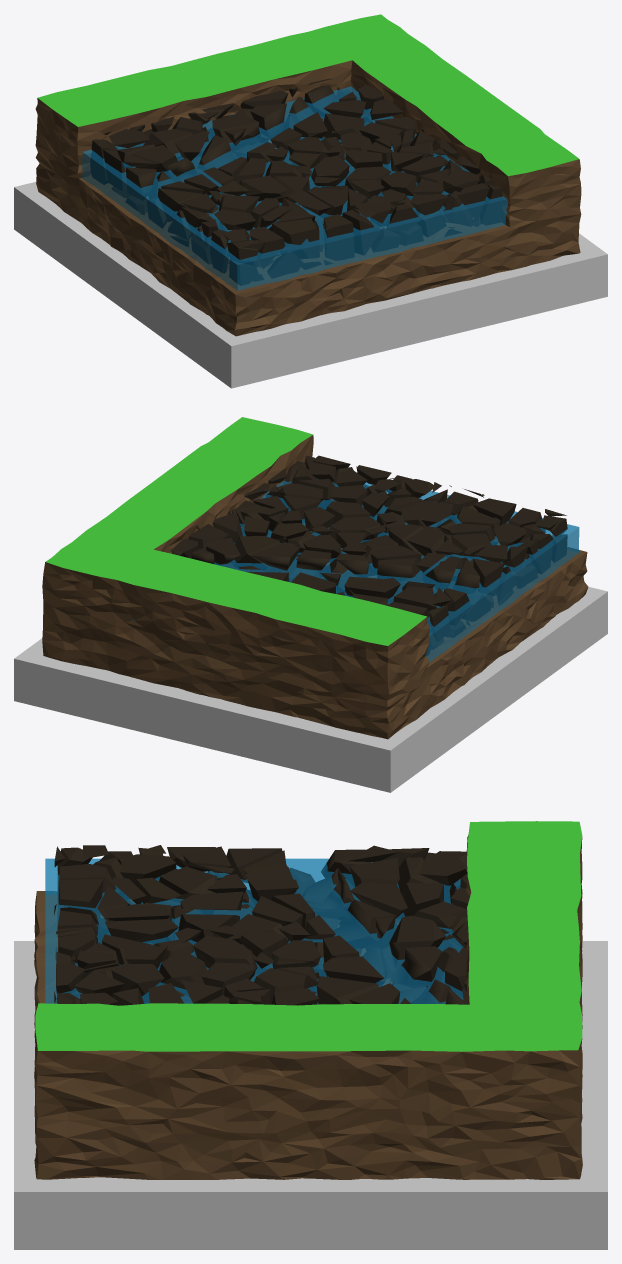
Rendered from bimodal_field.obj.
3 renders of one model, top to bottom at view 1: azimuth 30°, elevation 25°; view 2: azimuth 150°, elevation 25°; view 3: azimuth 270°, elevation 25°, orthographic. The views are drawn at different scales.
Visible parts, largest first — view 1: Cube.002; view 2: Cube.002; view 3: Cube.002.
Boxes of the visible parts, x1,y1,x2,y2 form: Cube.002: [14, 14, 607, 388]; Cube.002: [14, 417, 607, 792]; Cube.002: [14, 821, 607, 1249].
Bounding box in the file's own units: 5.75 × 1.99 × 5.75.
